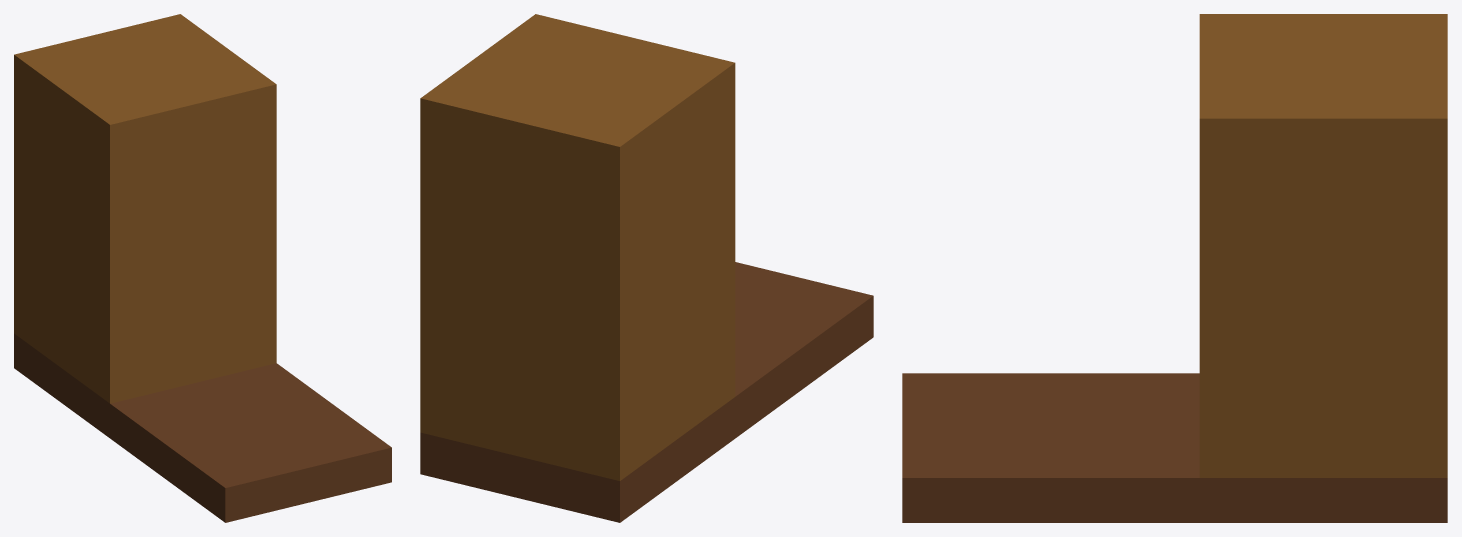
File: kapibara-1.obj
3 renders of one model, left to right at view 1: azimuth 30°, elevation 25°; view 2: azimuth 150°, elevation 25°; view 3: azimuth 270°, elevation 25°, orthographic. The views are drawn at different scales.
Size of the model in its own units: 0.5 by 0.9 by 1.1.
Materials: 1 (1 with a texture image).
